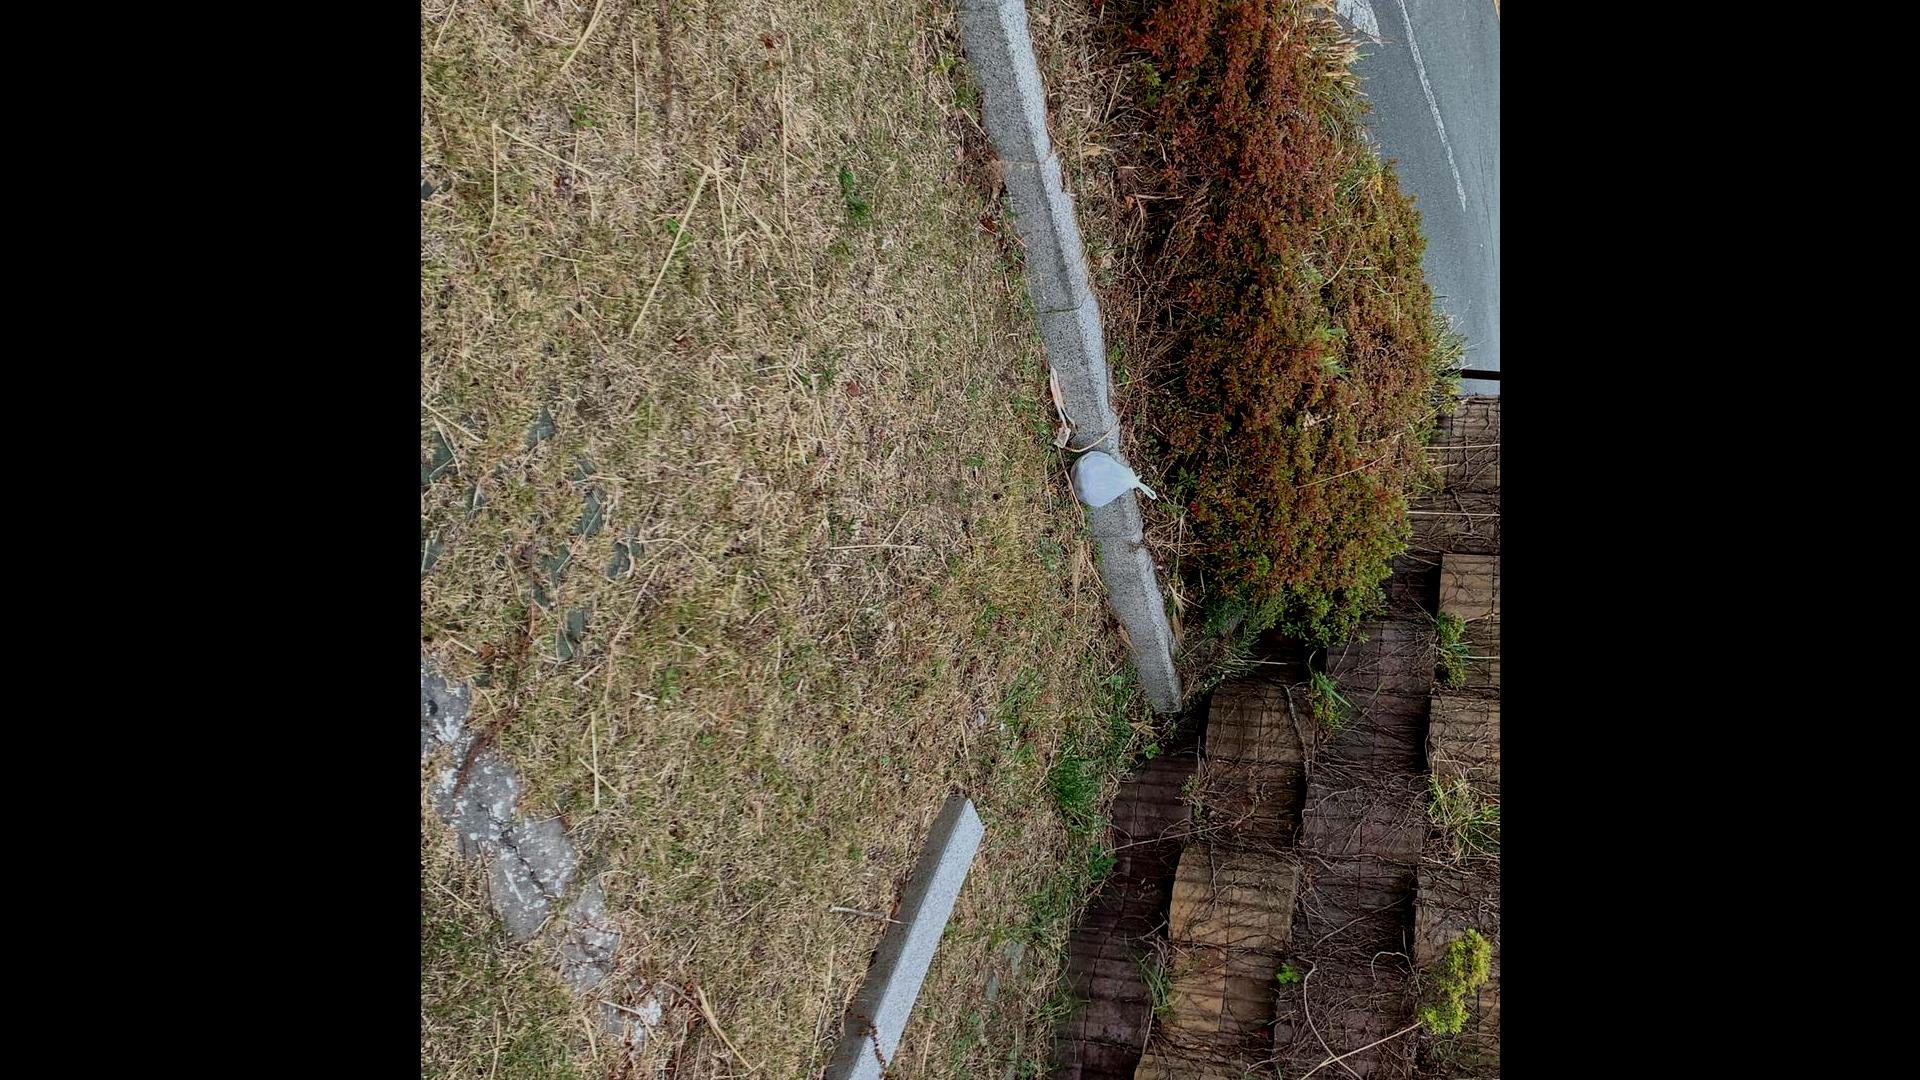white_bag: (1067, 444, 1160, 516)
